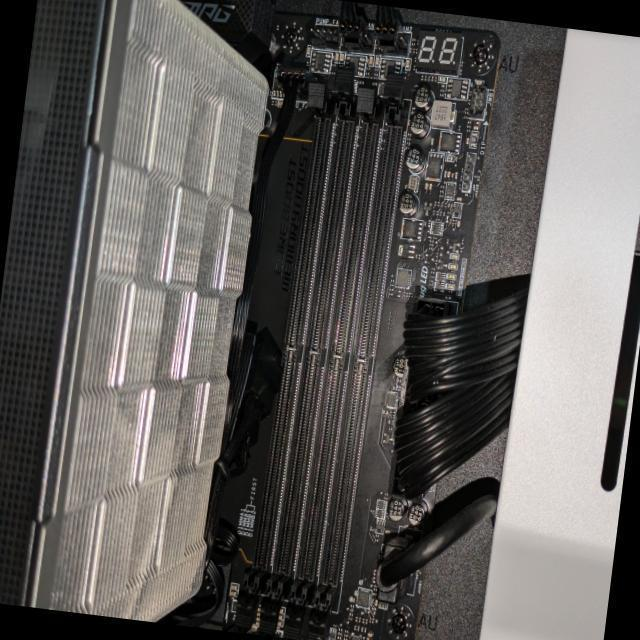CPU_Fan: (0, 0, 281, 628)
Mainboard: (199, 4, 502, 640)
